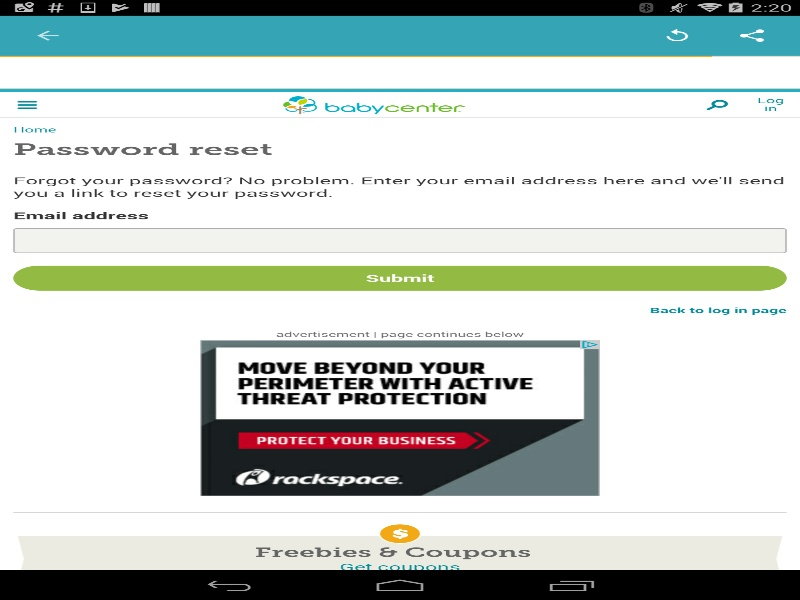Button: (13, 264, 786, 289), (10, 18, 85, 53)
Input: (13, 226, 786, 251)
